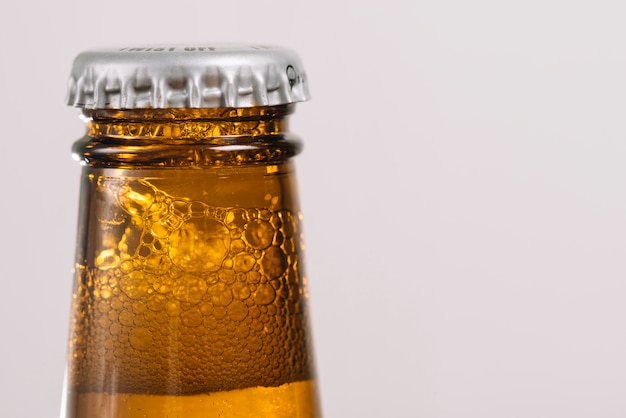alcohol: (59, 43, 323, 418)
